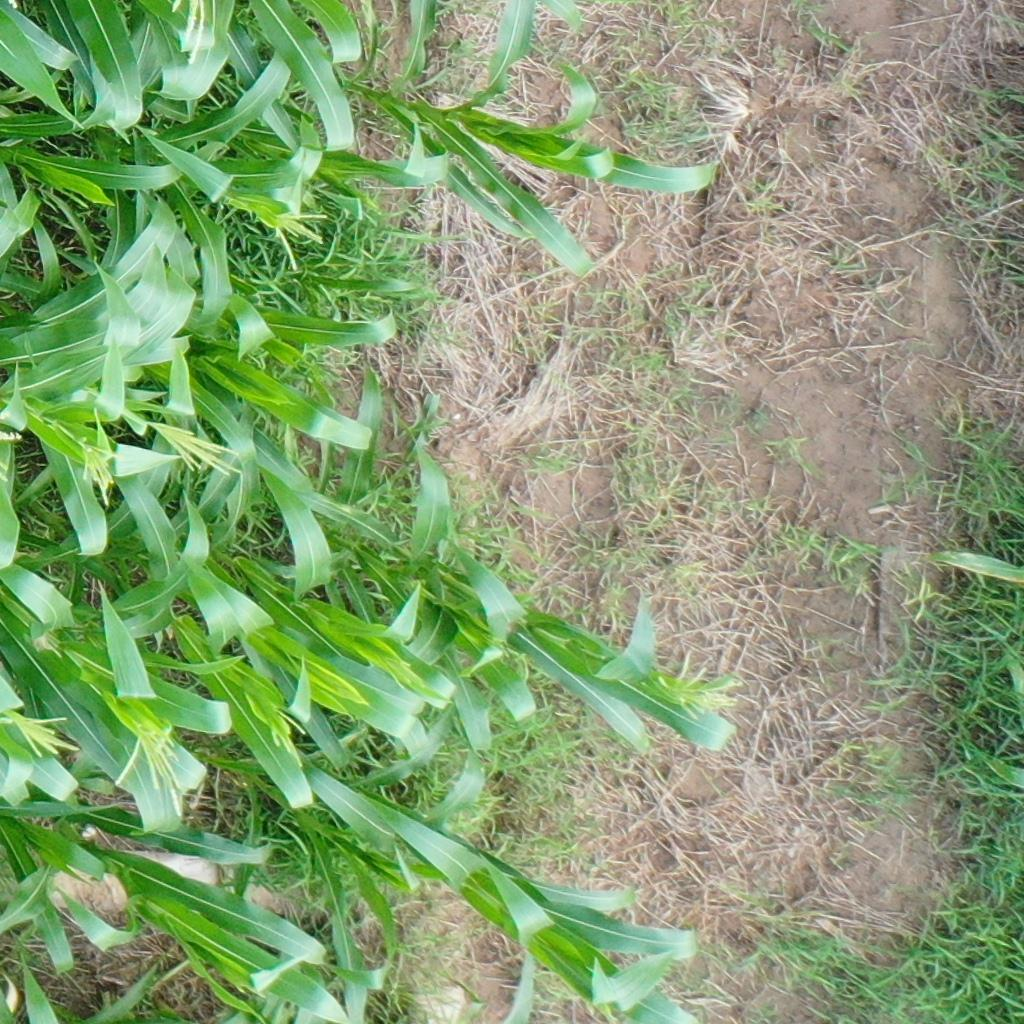Tassel: (111, 720, 185, 808), (654, 648, 743, 721), (146, 417, 246, 479), (272, 209, 328, 277), (5, 712, 81, 759), (75, 434, 121, 506), (170, 1, 209, 66), (267, 709, 306, 766), (386, 656, 426, 691)
